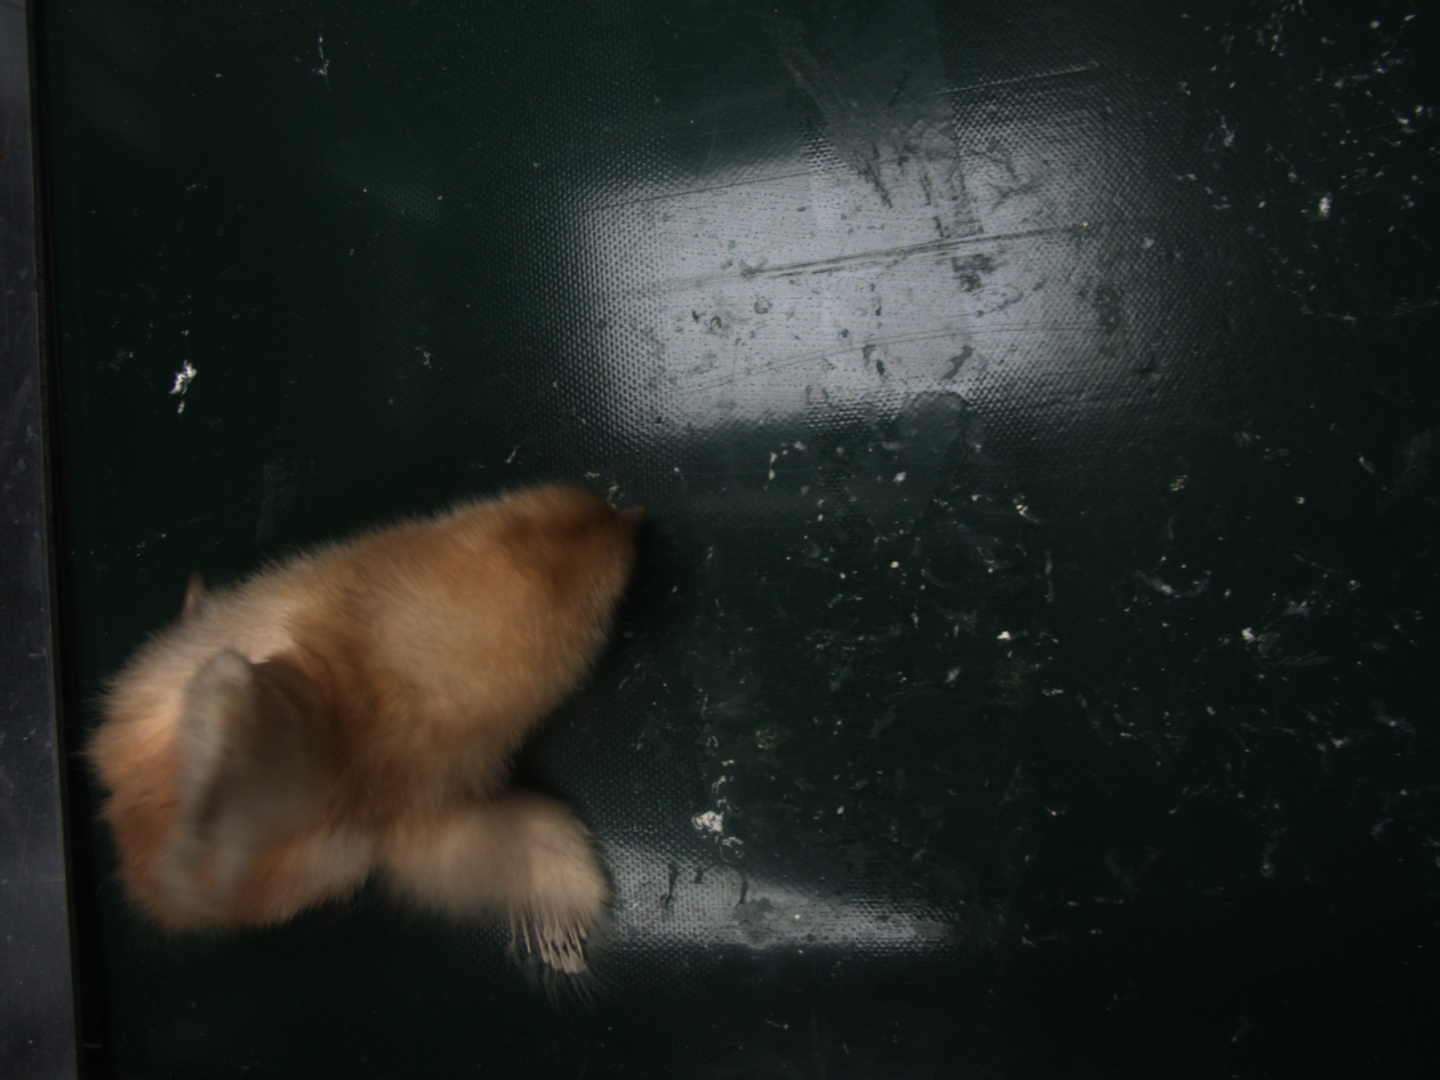female: (505, 903, 588, 978)
